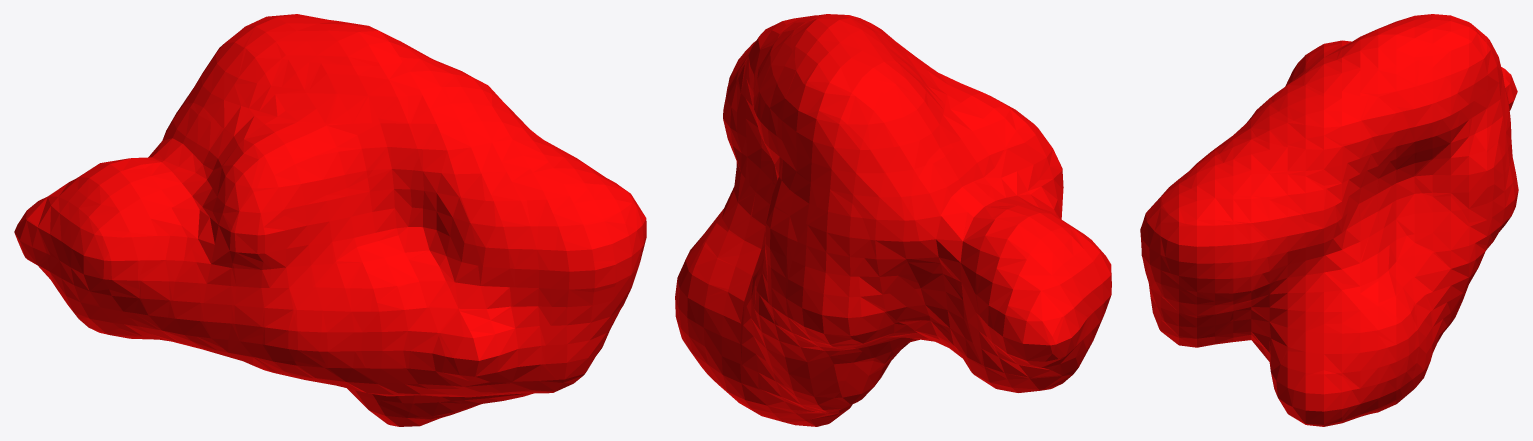
The model's file is elaB_coarse.dae.
The picture shows the model from 3 angles, left to right: view 1: azimuth 30°, elevation 25°; view 2: azimuth 150°, elevation 25°; view 3: azimuth 270°, elevation 25°; orthographic projection. The views are drawn at different scales.
Visible parts, largest first — view 1: elaB; view 2: elaB; view 3: elaB.
Boxes of the visible parts, <box> form: elaB: <box>14,14,646,426</box>; elaB: <box>675,14,1111,426</box>; elaB: <box>1140,14,1518,426</box>.
Size of the model in its own units: 46.79 by 38.34 by 37.2.
